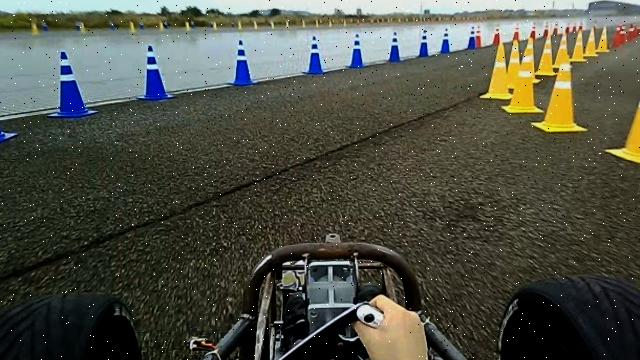blue cone: (46, 50, 98, 119), (136, 44, 176, 101), (227, 39, 259, 86), (0, 82, 18, 146), (302, 36, 328, 74), (345, 33, 368, 68), (388, 31, 402, 62)
yellow cone: (604, 67, 640, 165), (547, 55, 579, 134), (507, 50, 542, 114), (478, 41, 513, 100), (520, 36, 540, 84), (535, 34, 556, 76), (507, 39, 522, 89)
